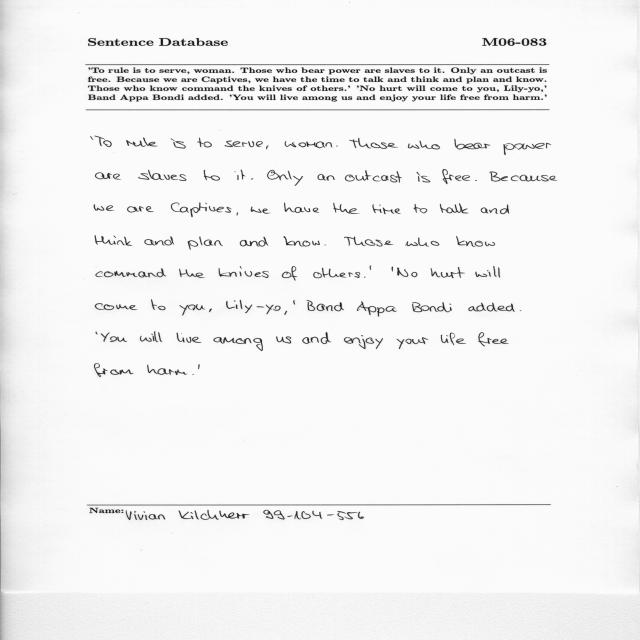word: (171, 203, 232, 217), (226, 300, 281, 314), (345, 170, 402, 183), (96, 268, 166, 278), (213, 337, 263, 351), (490, 172, 557, 182), (357, 301, 397, 317), (219, 266, 269, 278), (504, 143, 552, 155), (267, 170, 303, 186), (344, 335, 383, 349), (95, 363, 134, 377), (349, 138, 398, 149), (138, 170, 187, 181), (344, 237, 394, 247), (313, 268, 360, 278), (188, 237, 223, 250), (478, 333, 509, 347), (456, 236, 495, 247), (468, 303, 515, 312), (443, 169, 471, 184), (306, 300, 344, 311), (412, 302, 452, 312), (147, 365, 187, 375), (397, 337, 429, 349), (431, 267, 465, 278), (95, 236, 132, 246), (283, 236, 320, 246), (455, 139, 491, 149), (284, 203, 319, 213), (303, 332, 332, 344), (285, 141, 333, 148), (127, 137, 158, 147), (406, 238, 440, 247), (475, 266, 500, 278), (441, 333, 466, 345), (333, 203, 360, 214), (96, 303, 138, 310), (372, 204, 401, 214), (440, 204, 469, 214), (408, 141, 440, 150), (180, 305, 206, 316), (240, 237, 268, 247), (144, 237, 174, 246), (481, 205, 509, 214), (177, 333, 202, 343), (101, 333, 127, 342), (225, 141, 263, 147), (179, 269, 204, 278), (282, 266, 297, 281), (140, 332, 162, 342), (397, 268, 418, 278), (94, 136, 112, 147), (127, 206, 154, 213), (96, 173, 122, 180), (204, 170, 220, 180), (171, 139, 186, 149), (197, 138, 212, 148), (151, 300, 166, 310), (417, 172, 431, 182), (95, 204, 115, 211), (251, 207, 271, 214), (318, 174, 335, 181), (414, 204, 427, 213), (235, 170, 246, 180), (277, 337, 292, 344), (91, 136, 94, 140), (266, 146, 269, 150), (392, 267, 394, 272), (293, 300, 295, 305), (198, 365, 200, 370), (209, 309, 212, 312), (237, 212, 239, 216), (285, 311, 287, 315), (96, 332, 98, 335), (251, 178, 253, 180), (370, 266, 371, 270), (336, 146, 338, 147), (475, 180, 477, 181), (364, 277, 366, 278), (192, 374, 194, 375), (520, 310, 521, 311), (325, 245, 327, 245)
